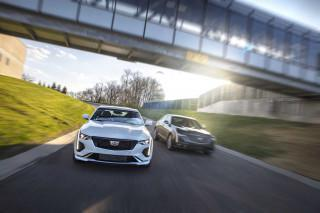cadillac: (108, 139, 121, 148)
